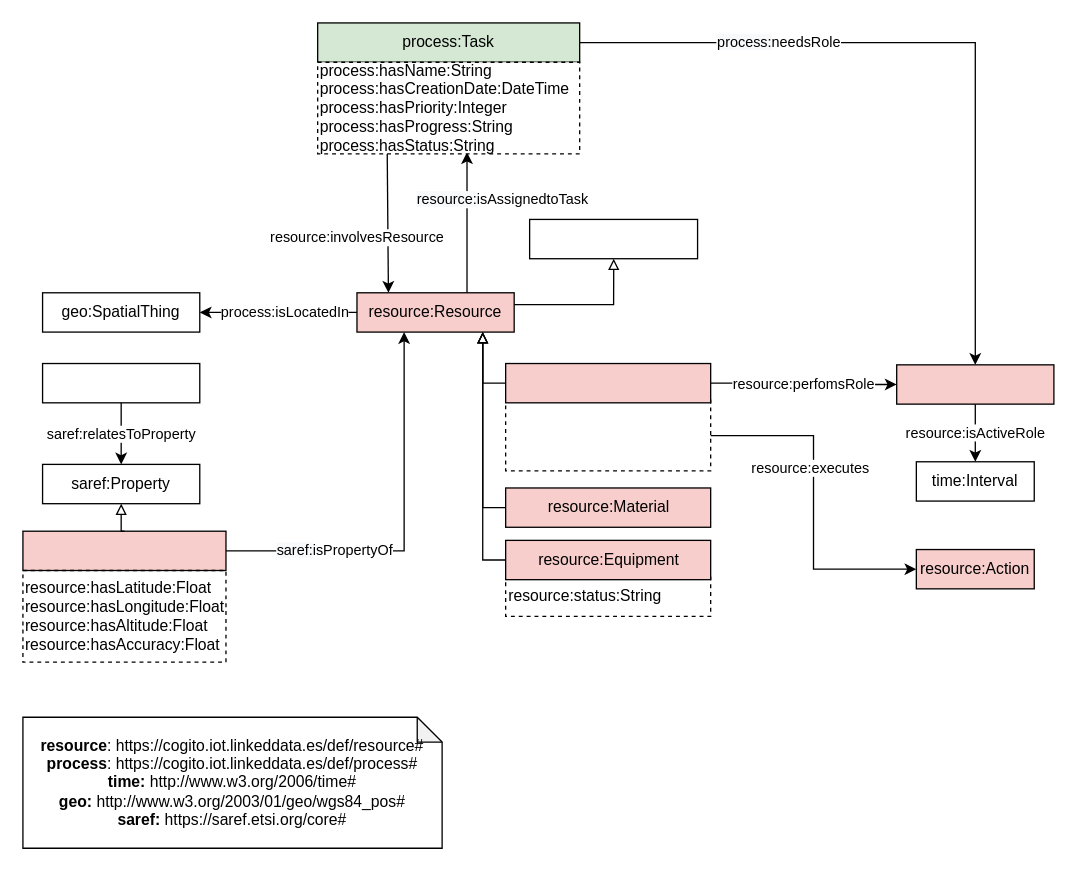
This 1077x871 diagram has some shape labels left out. Here are the shapes that lost their labels. From the top down, the centre of each, then its label:
the point at 613,238: saref:FeatureOfInterest
the point at 120,382: saref:Sensor
the point at 607,382: resource:Worker
the point at 974,384: resource:WorkerRole
the point at 607,435: resource :email:String resource :identification:String resource :passport:String
the point at 124,550: resource:LocationProperty
